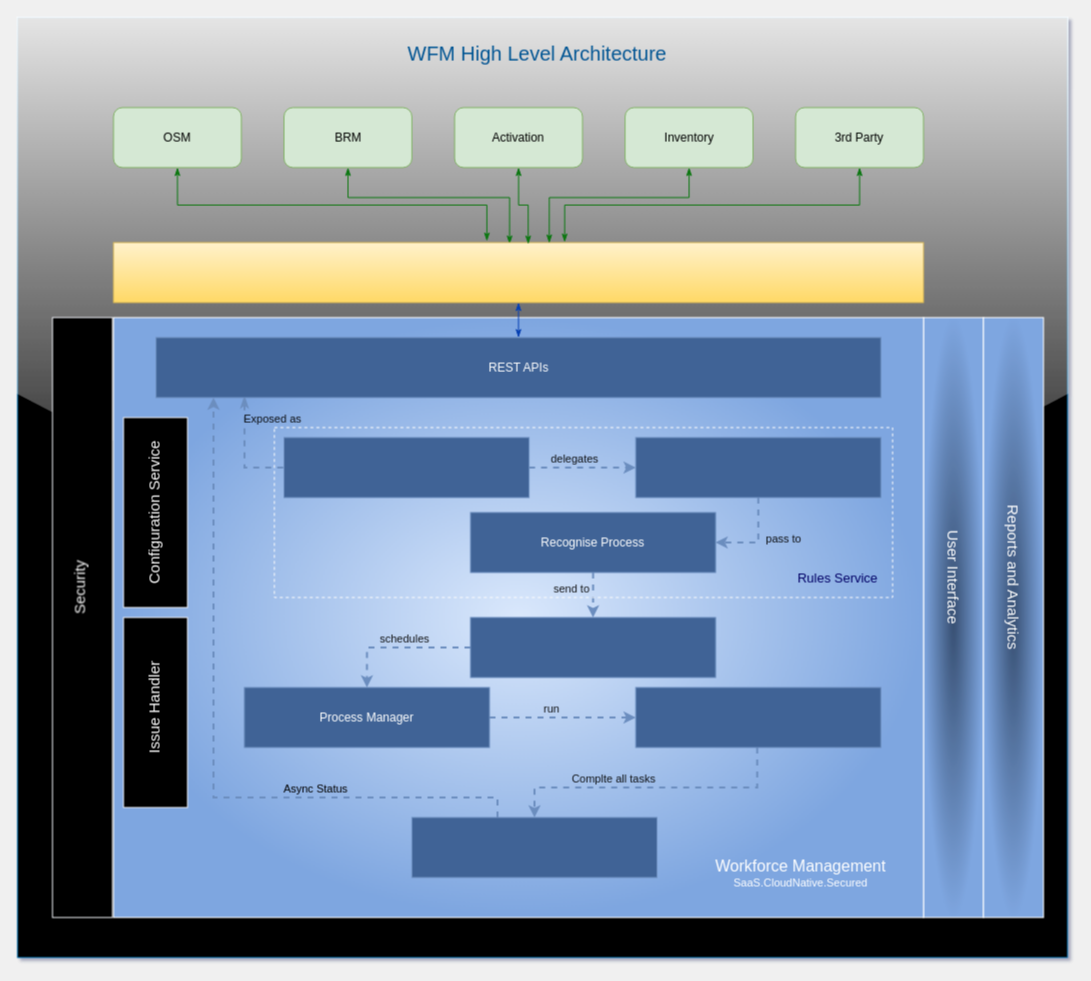
The diagram is 1091 pixels wide and 981 high, and some of its shapes have lost their labels. Here are the shapes that lost their labels. From the top down, the centre of each, then its label:
At point 518,272: "Integration Layer".
At point 406,467: "Rules".
At point 758,467: "Decompose to Multiple processes".
At point 593,647: "Intelligent Scheduler".
At point 758,717: "Run Tasks".
At point 534,847: "Complete Process".
